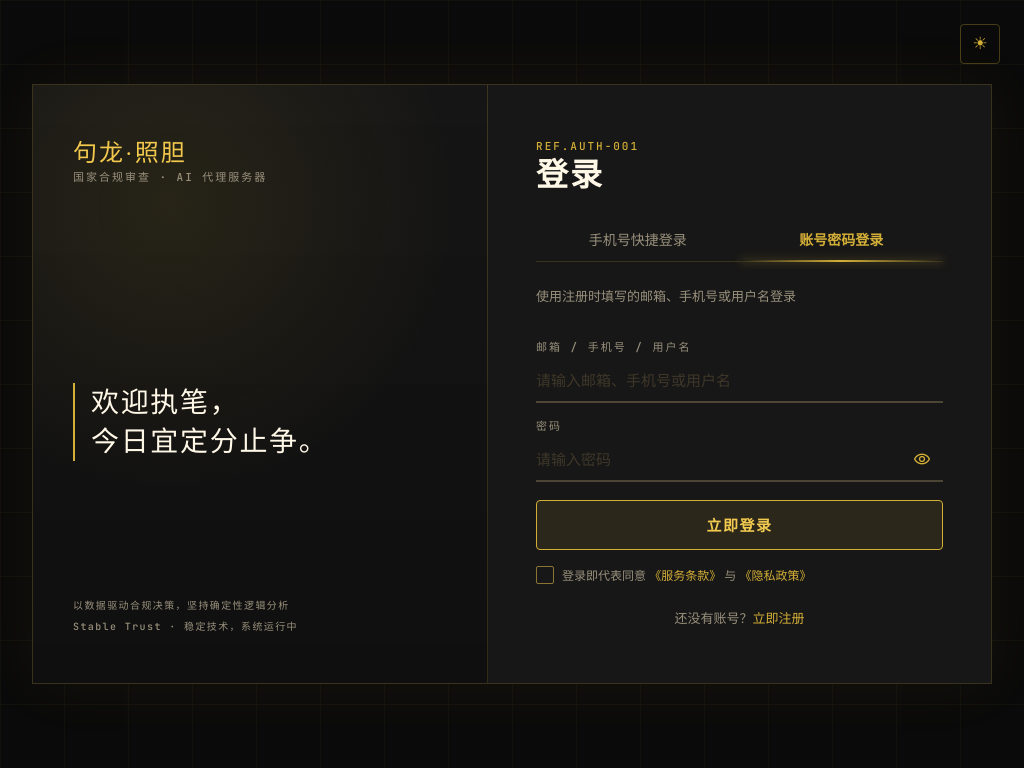
LoginPage password login › renders structured login errors without object coercion
Type "user@example.com" into the field labelled "邮箱 / 手机号 / 用户名" at (739, 382), box [536,362,943,404]
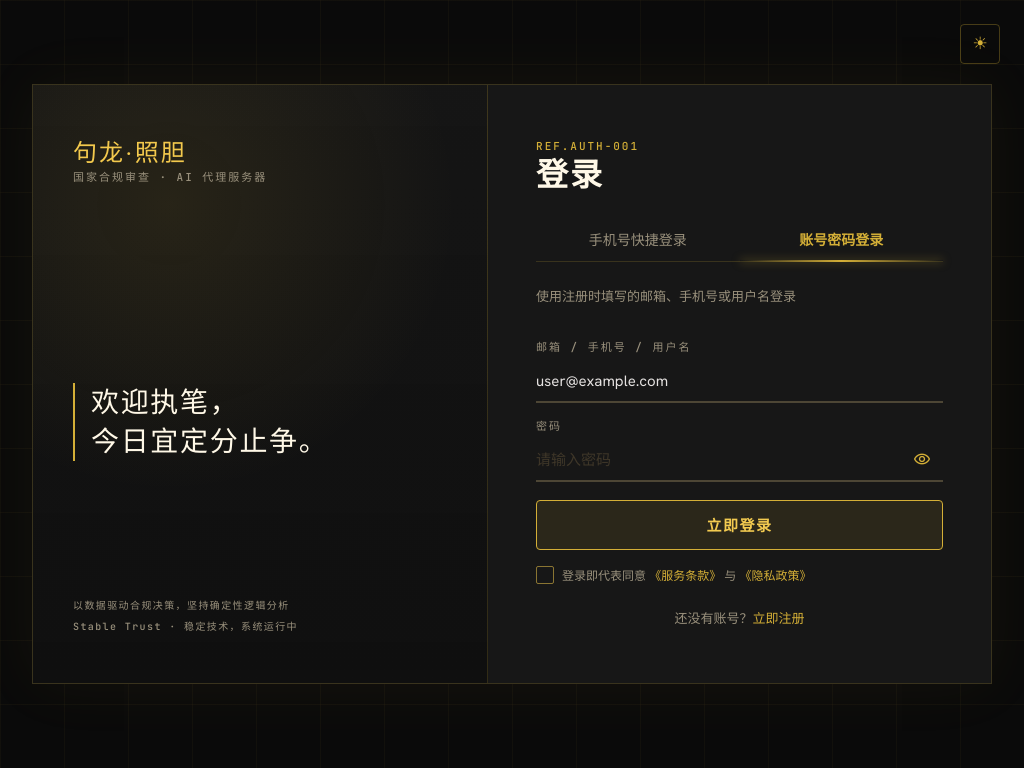
Type "password123" into the password field labelled "密码" at (718, 460), box [536,440,901,480]
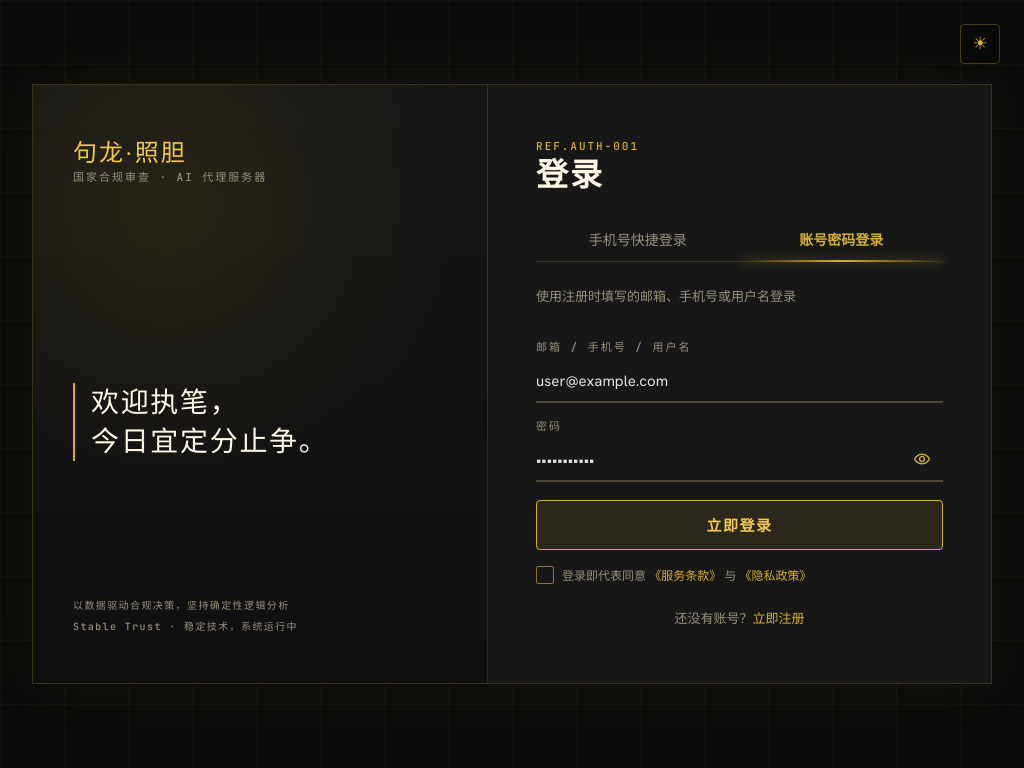
Click the checkbox with class "base-checkbox-box" at (545, 576), box [536,566,554,584]
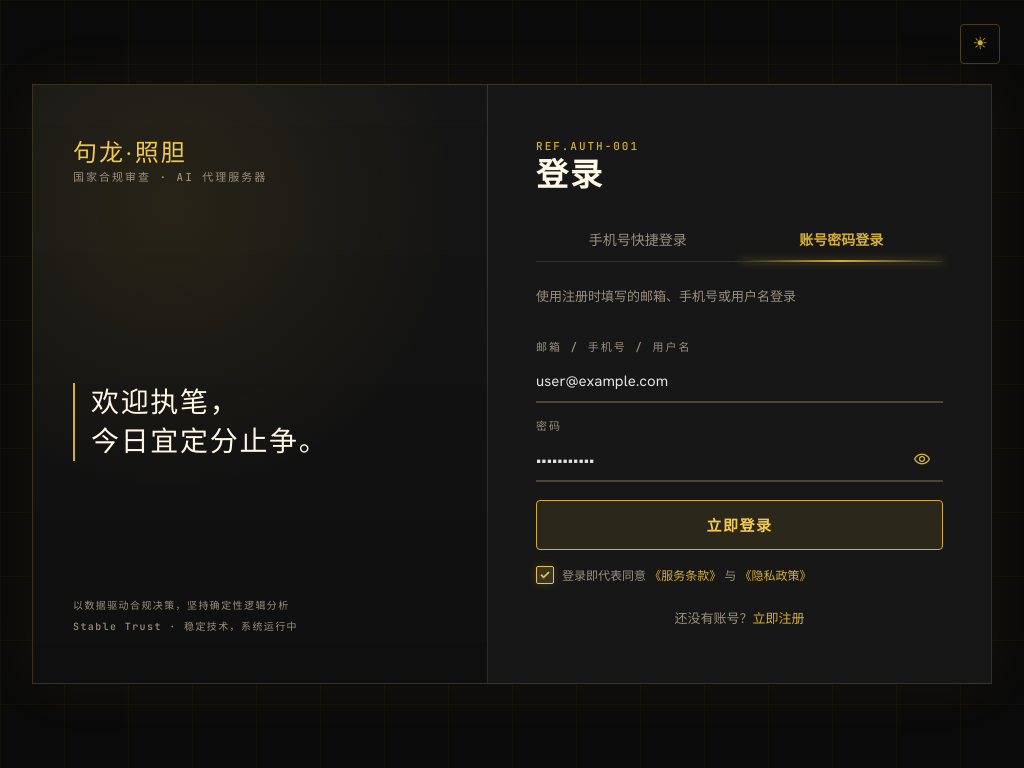
Submit the form, box [536,286,943,550]
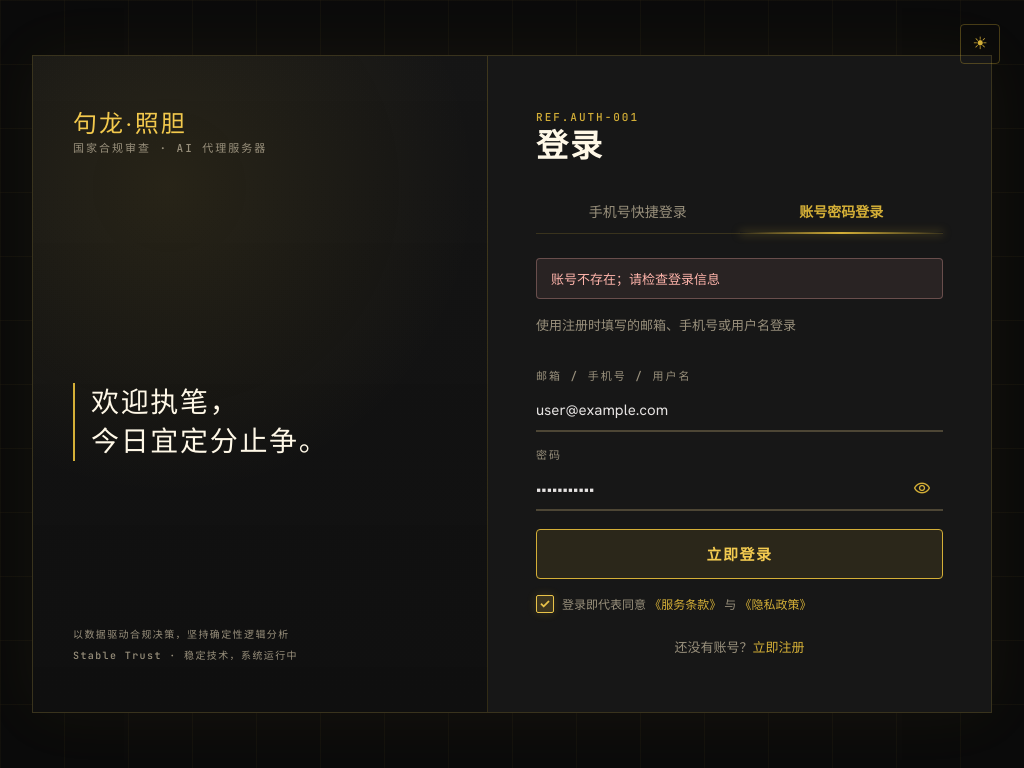
Expected: the text with class "alert-error" reads "账号不存在；请检查登录信息", [551,271,720,288]
